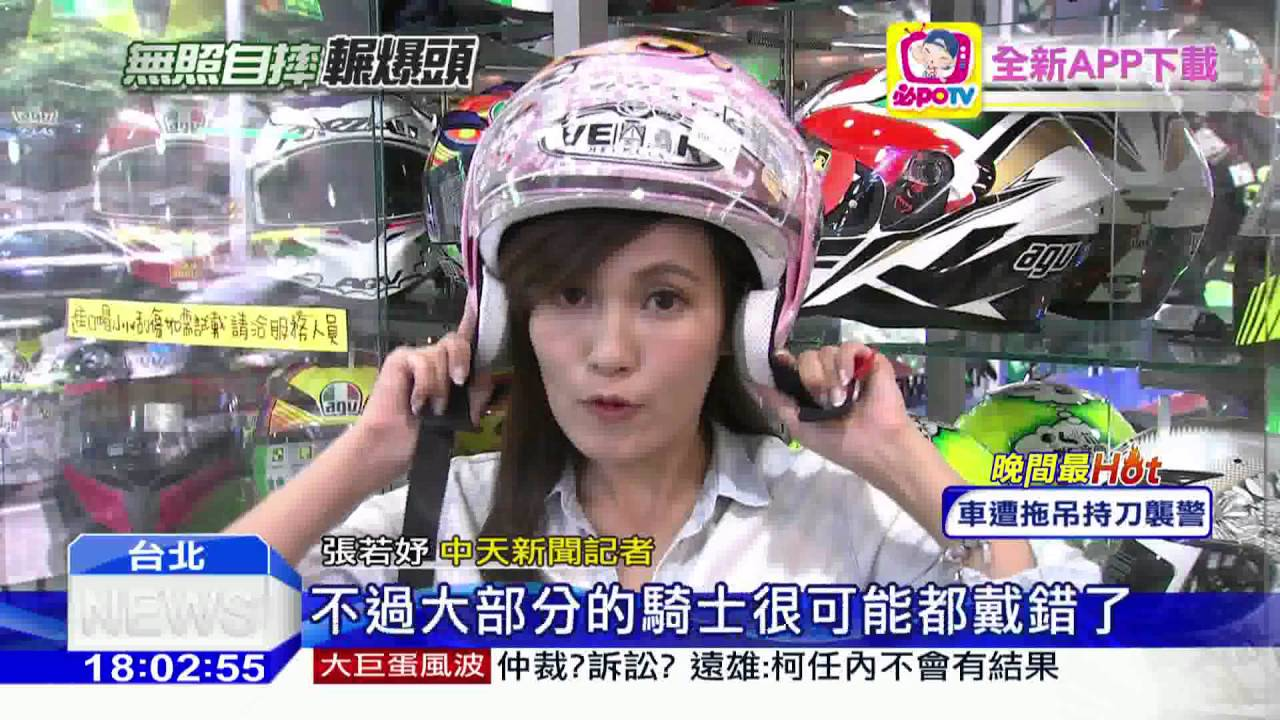helmet: (457, 43, 835, 306)
